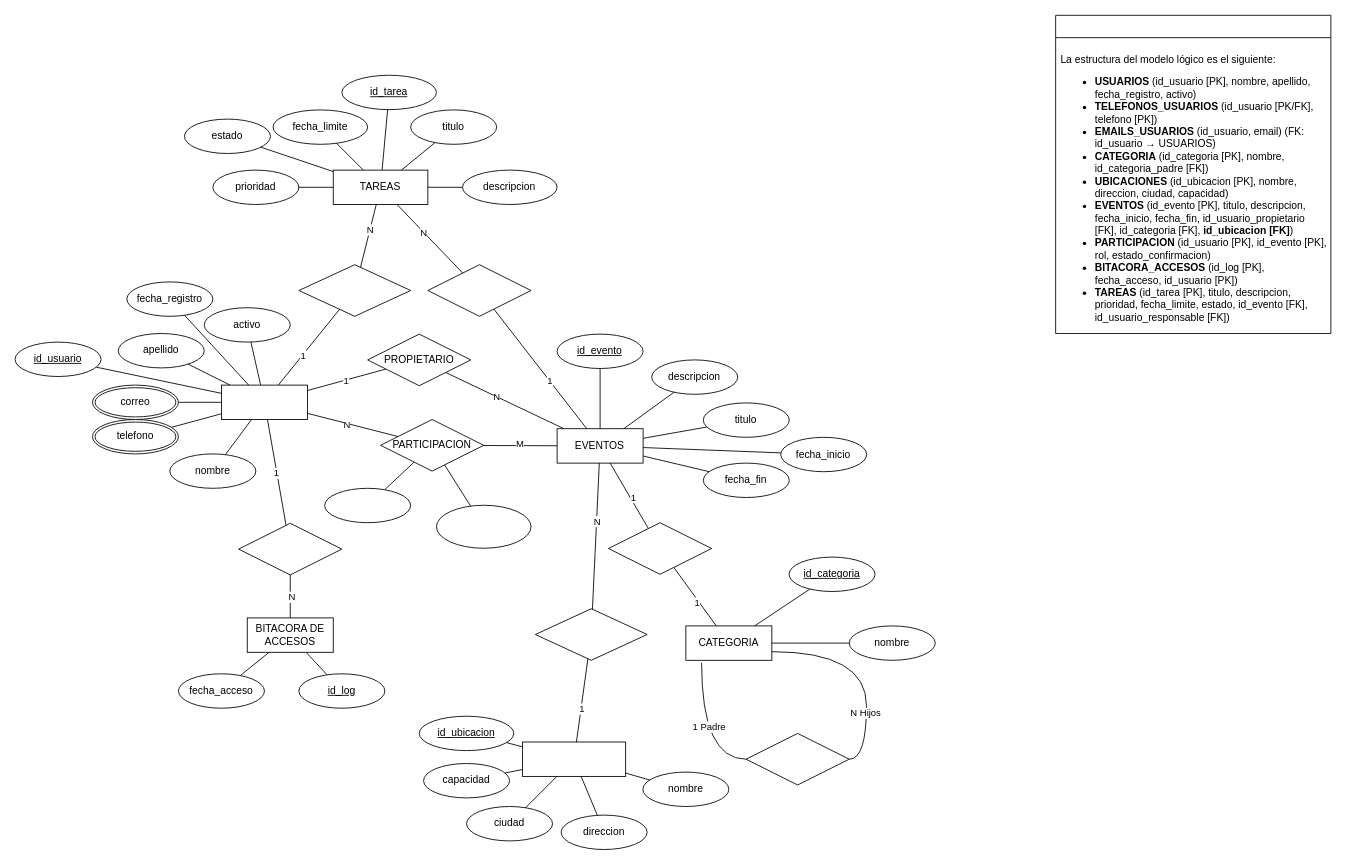
Image size: 1346x864. Some labels were removed from this diagram. The shapes that lost their labels are listed below. From the top down, each one's box as (x1, y1, x2, y2) in pixels, then its label:
(1055, 14, 1331, 334): Modelo Logico
(298, 264, 411, 316): RESPONSABLE
(427, 264, 531, 316): GENERA
(221, 384, 307, 420): USUARIOS
(324, 487, 411, 523): rol
(436, 504, 531, 548): estado_confirmacion
(238, 522, 342, 575): REGISTRA
(608, 522, 712, 574): PARTENECE
(534, 608, 647, 660): SE REALIZA EN
(522, 741, 626, 776): UBICACIONES
(745, 733, 849, 785): JERARQUIA
